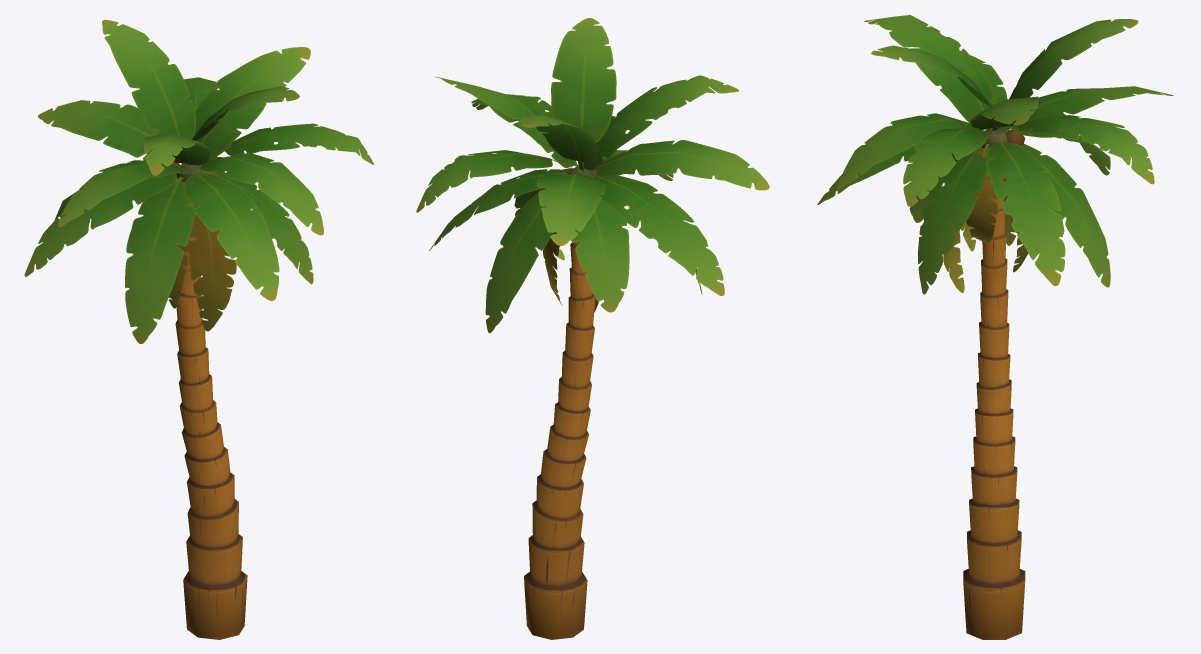
File: SM_Nature_Tree_01.fbx
The picture shows the model from 3 angles, left to right: view 1: azimuth 30°, elevation 25°; view 2: azimuth 150°, elevation 25°; view 3: azimuth 270°, elevation 25°; orthographic projection. The views are drawn at different scales.
Visible parts, largest first — view 1: Tree_01_LOD0; view 2: Tree_01_LOD0; view 3: Tree_01_LOD0.
Part boxes in pixels (x1,y1,x2,y2): Tree_01_LOD0: [24, 19, 373, 639]; Tree_01_LOD0: [416, 18, 769, 639]; Tree_01_LOD0: [817, 15, 1173, 639].
Size of the model in its own units: 371 by 634 by 367.
